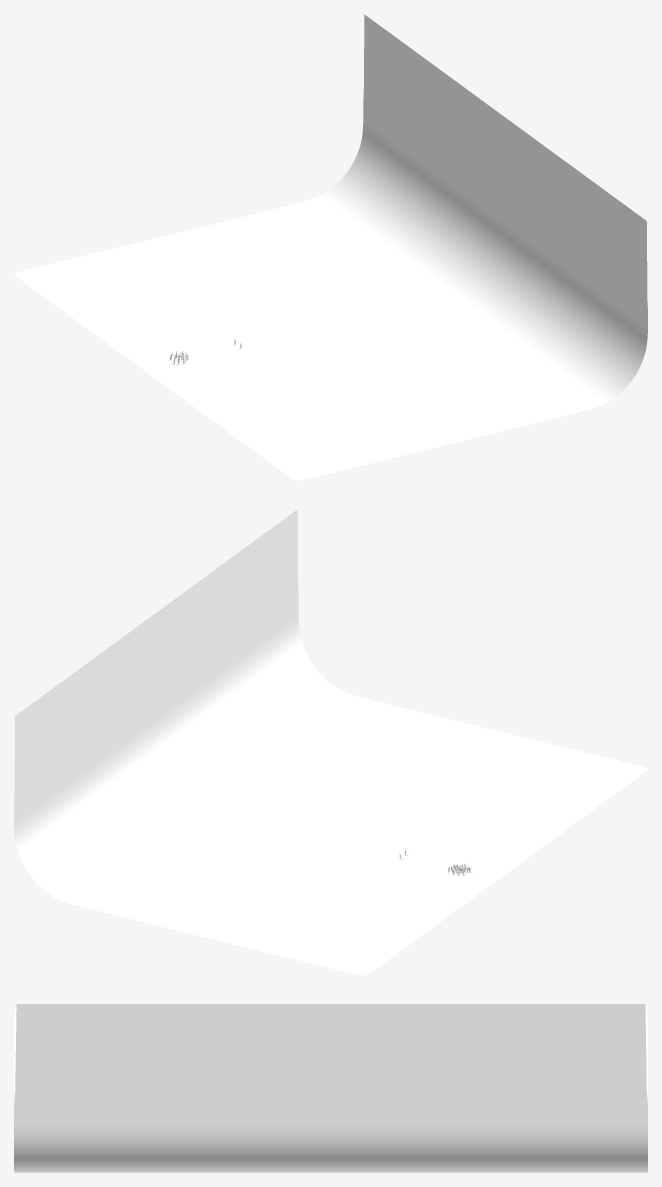
File: human-collection-final-v3-optimize.glb
The picture shows the model from 3 angles, top to bottom: view 1: azimuth 30°, elevation 25°; view 2: azimuth 150°, elevation 25°; view 3: azimuth 270°, elevation 25°; orthographic projection. The views are drawn at different scales.
Visible parts, largest first — view 1: FLOOR; view 2: FLOOR; view 3: FLOOR.
Boxes of the visible parts, box(x1,y1,x2,y2) form: FLOOR: box(14, 14, 647, 480); FLOOR: box(14, 509, 647, 975); FLOOR: box(14, 1004, 647, 1172).
Bounding box in the file's own units: 188 × 88.78 × 263.
Materials: 2 (1 with a texture image).
